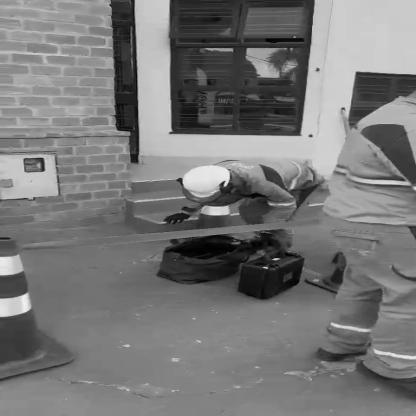helmet: (177, 165, 244, 206)
